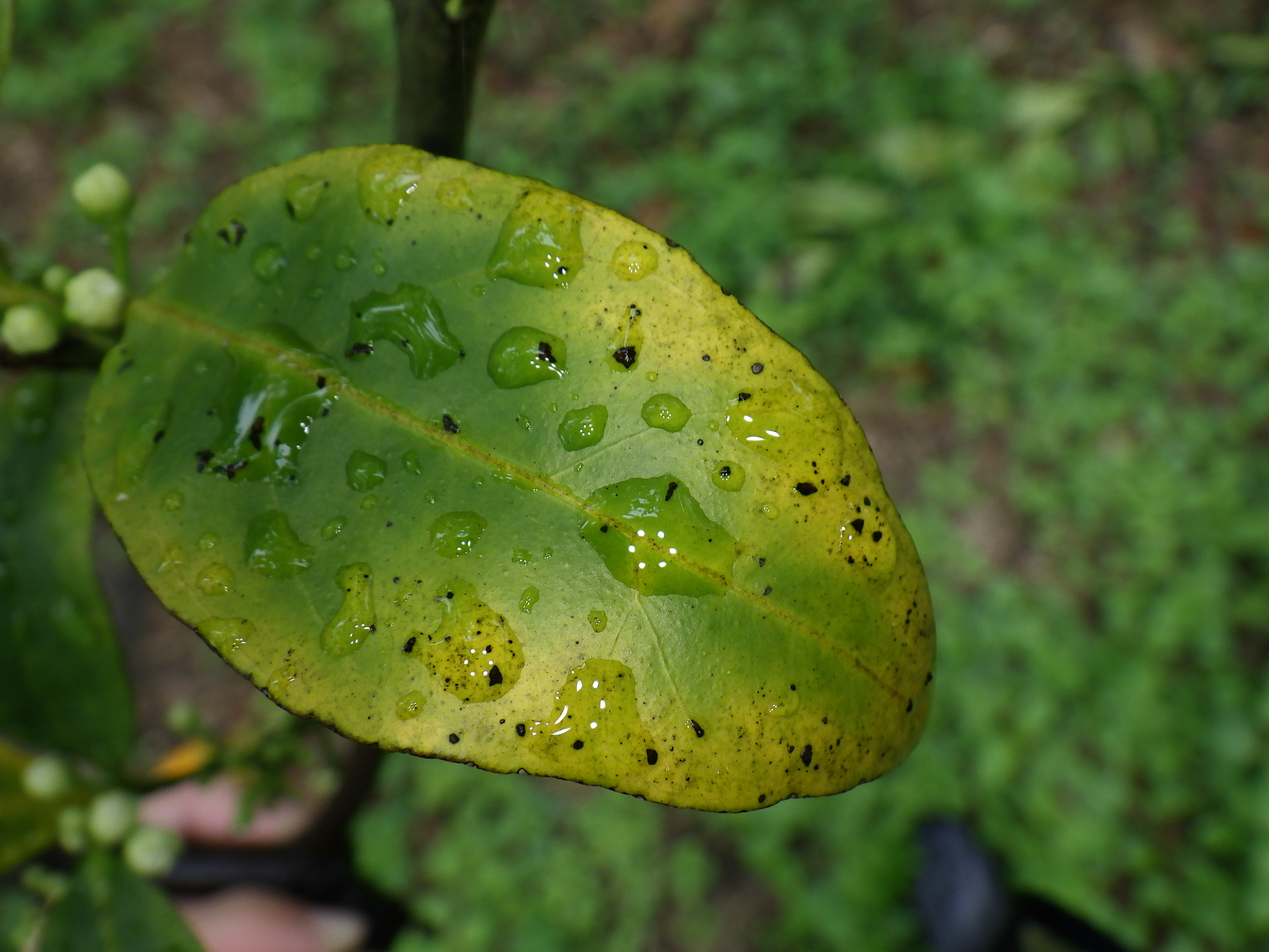Oily_Spot: (86, 145, 933, 810)
